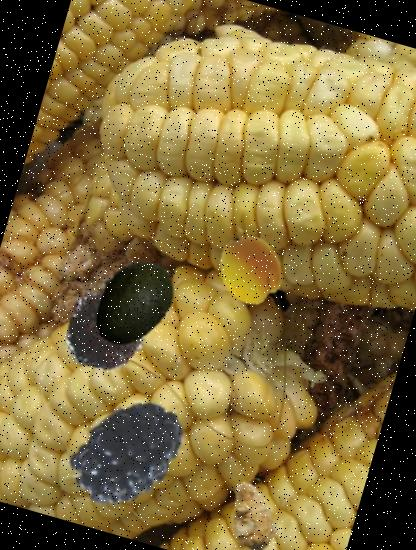Avocado: (73, 242, 191, 361)
Ginger: (208, 472, 296, 550)
Mulberry: (53, 382, 219, 548)
Peach: (206, 226, 294, 313)
Rambutan: (50, 263, 170, 383)
